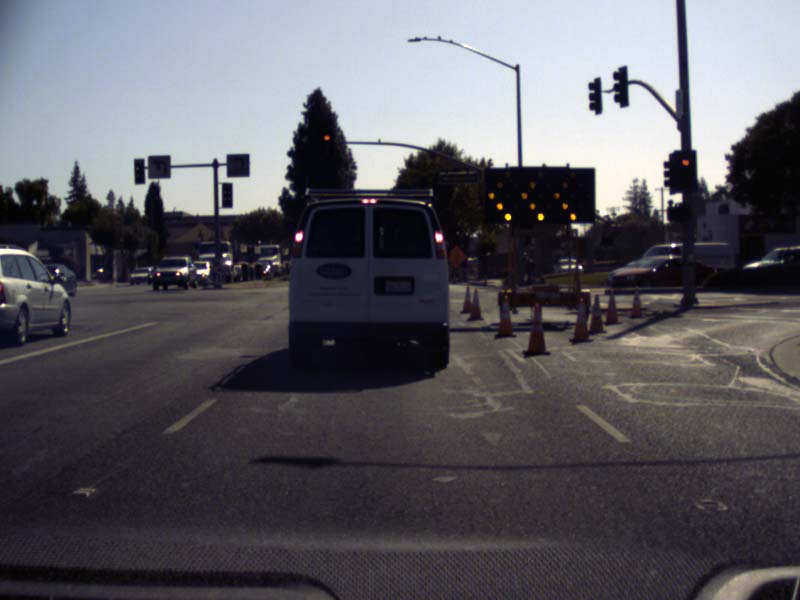Red: (676, 151, 695, 191), (319, 128, 334, 159)
